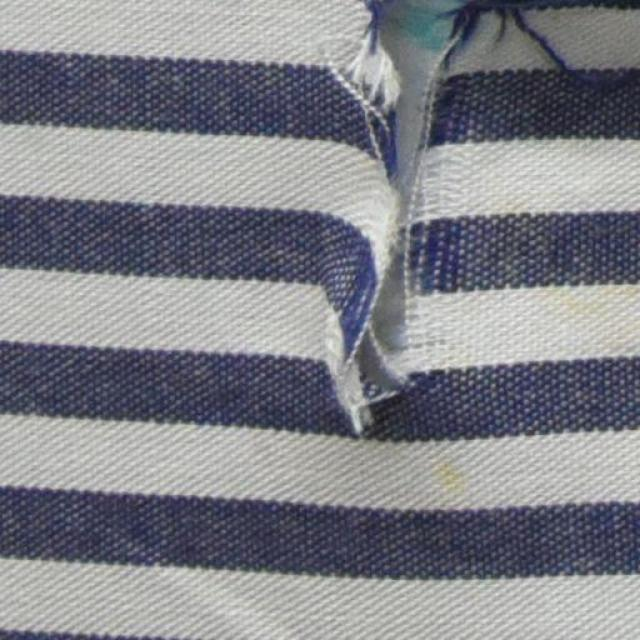cut: (332, 3, 467, 432)
